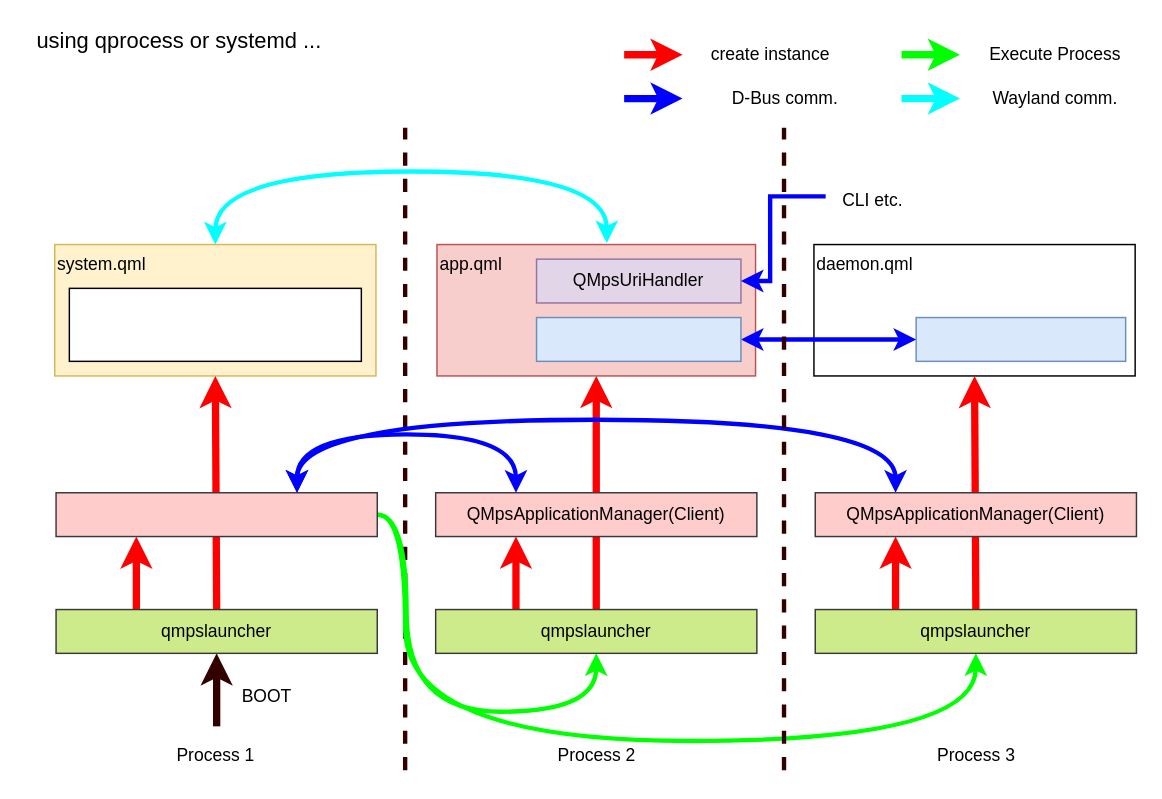
This 1162x799 diagram has some shape labels left out. The shapes that lost their labels are listed below. From the top down, each one's centre as x and y in pixels, then its label:
(x=214, y=324): wayland compositor
(x=638, y=338): QMpsIpcInterface(Client)
(x=1020, y=338): QMpsIpcInterface(Server)
(x=216, y=514): QMpsApplicationManager(Server)
